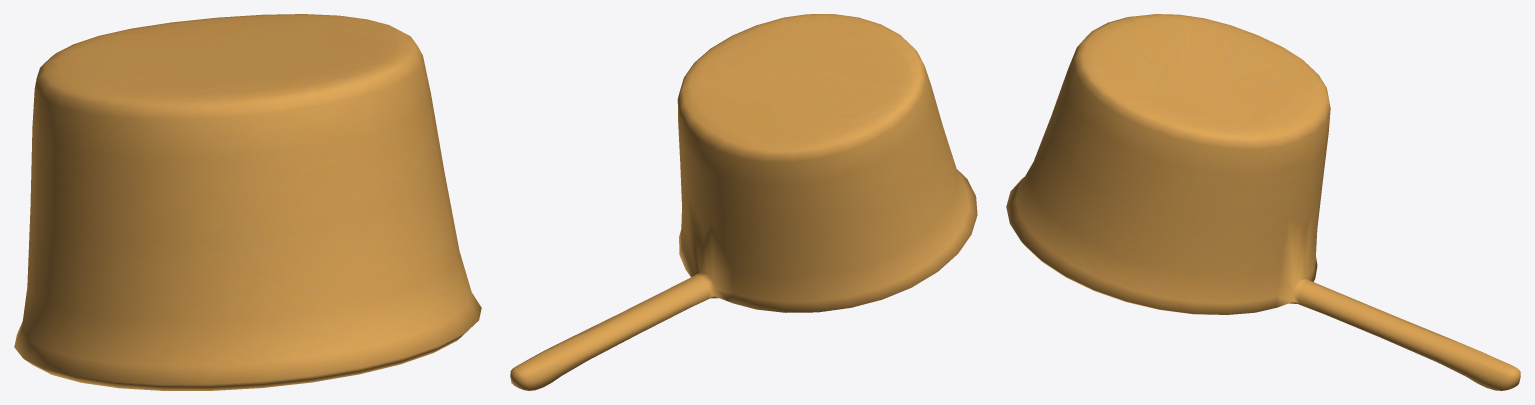
The model's file is TABO.fbx.
3 views of the same model, side by side, from view 1: azimuth 30°, elevation 25°; view 2: azimuth 150°, elevation 25°; view 3: azimuth 270°, elevation 25° (orthographic). The views are drawn at different scales.
Parts seen in each view (by area): view 1: TABO; view 2: TABO; view 3: TABO.
Boxes of the visible parts, bbox=[...] form: TABO: bbox=[14, 14, 481, 390]; TABO: bbox=[510, 14, 977, 390]; TABO: bbox=[1006, 14, 1520, 390].
Bounding box in the file's own units: 626 × 535 × 938.
1 material, 1 textured.
